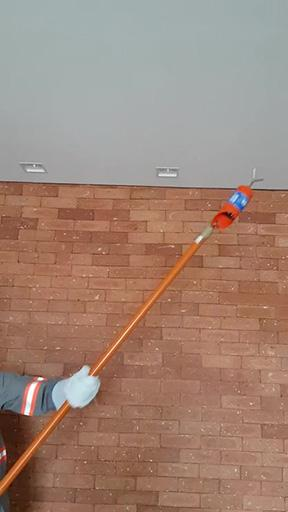Detector_Tensao_Contato: (208, 168, 264, 230)
Vara_Manobra: (1, 228, 210, 489)
